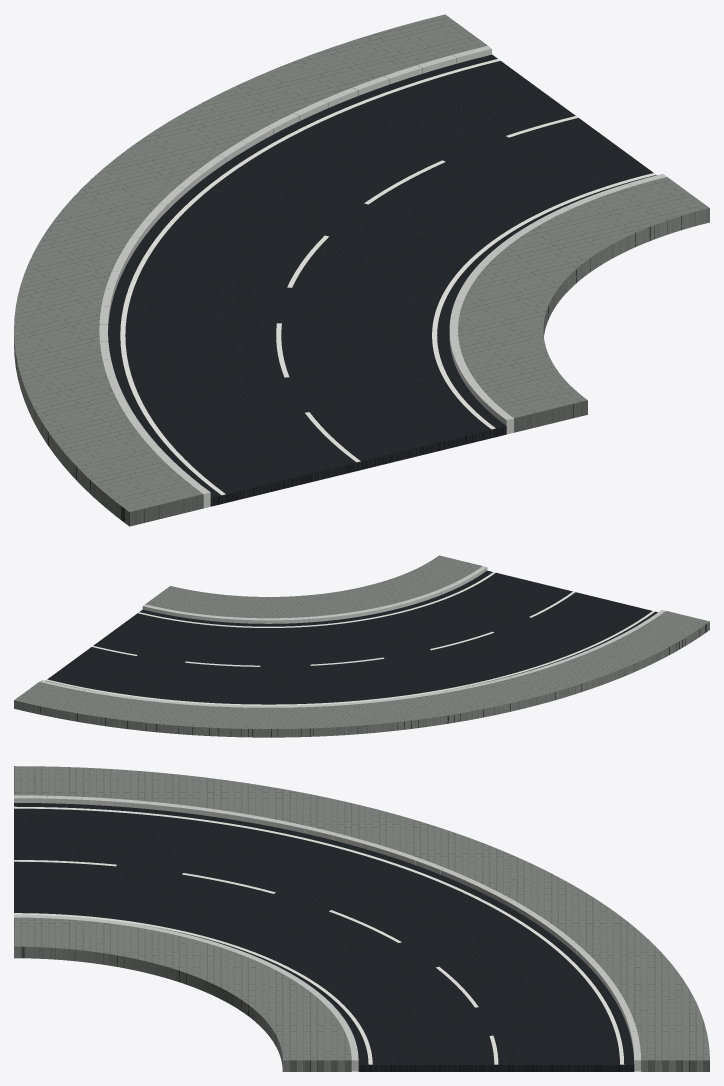
File: RK_Road_Curve90_R14.glb
3 renders of one model, top to bottom at view 1: azimuth 30°, elevation 25°; view 2: azimuth 150°, elevation 25°; view 3: azimuth 270°, elevation 25°, orthographic. The views are drawn at different scales.
Parts seen in each view (by area): view 1: Surface_Asphalt.002, Sidewalk_Paving.001, Curb_Concrete.001, Markings_White.002; view 2: Surface_Asphalt.002, Sidewalk_Paving.001, Curb_Concrete.001, Markings_White.002; view 3: Surface_Asphalt.002, Sidewalk_Paving.001, Curb_Concrete.001, Markings_White.002.
Boxes of the visible parts, x1=… form: Surface_Asphalt.002: x1=108, y1=54, x2=656, y2=506; Sidewalk_Paving.001: x1=14, y1=14, x2=709, y2=526; Curb_Concrete.001: x1=99, y1=45, x2=666, y2=508; Markings_White.002: x1=120, y1=58, x2=656, y2=495; Surface_Asphalt.002: x1=45, y1=570, x2=657, y2=704; Sidewalk_Paving.001: x1=14, y1=555, x2=709, y2=737; Curb_Concrete.001: x1=39, y1=566, x2=665, y2=707; Markings_White.002: x1=45, y1=572, x2=655, y2=705; Surface_Asphalt.002: x1=14, y1=803, x2=634, y2=1071; Sidewalk_Paving.001: x1=14, y1=766, x2=709, y2=1071; Curb_Concrete.001: x1=14, y1=795, x2=640, y2=1071; Markings_White.002: x1=14, y1=806, x2=624, y2=1064.
Size of the model in its own units: 20.2 by 0.37 by 20.2.
Materials: 4 (2 with a texture image).
